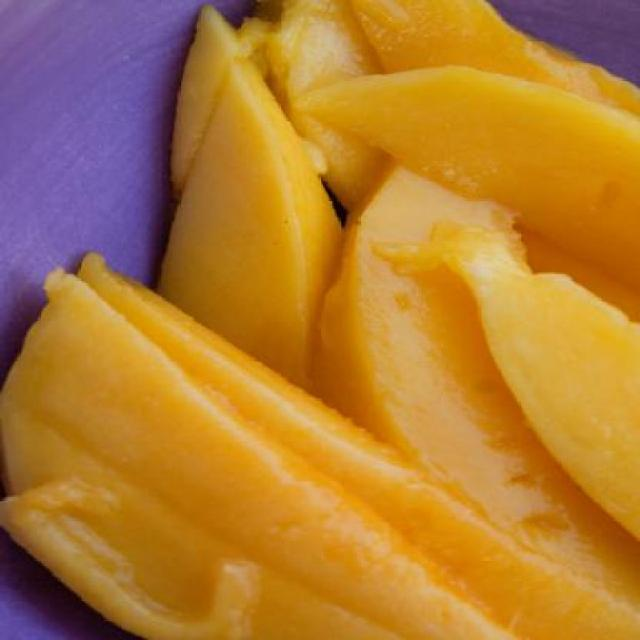Mango: (0, 0, 638, 638), (0, 286, 515, 640), (146, 34, 334, 366)
